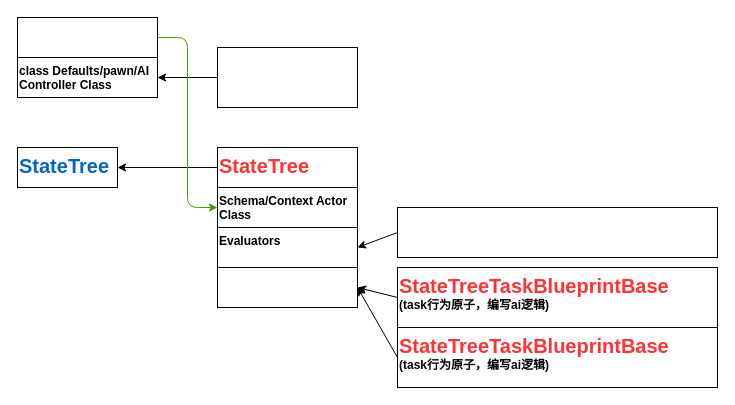
This 735x405 diagram has some shape labels left out. The box of each missing label's shape, as (x1, y1, x2, y2) in pixels:
AIController (controller): (216, 46, 358, 108)
Character: (16, 16, 158, 58)
StateTree/*state Details/Tasks: (216, 266, 358, 308)
StateTreeEveluatorBlueprintBase (初始变量转换，存储): (396, 206, 718, 258)
